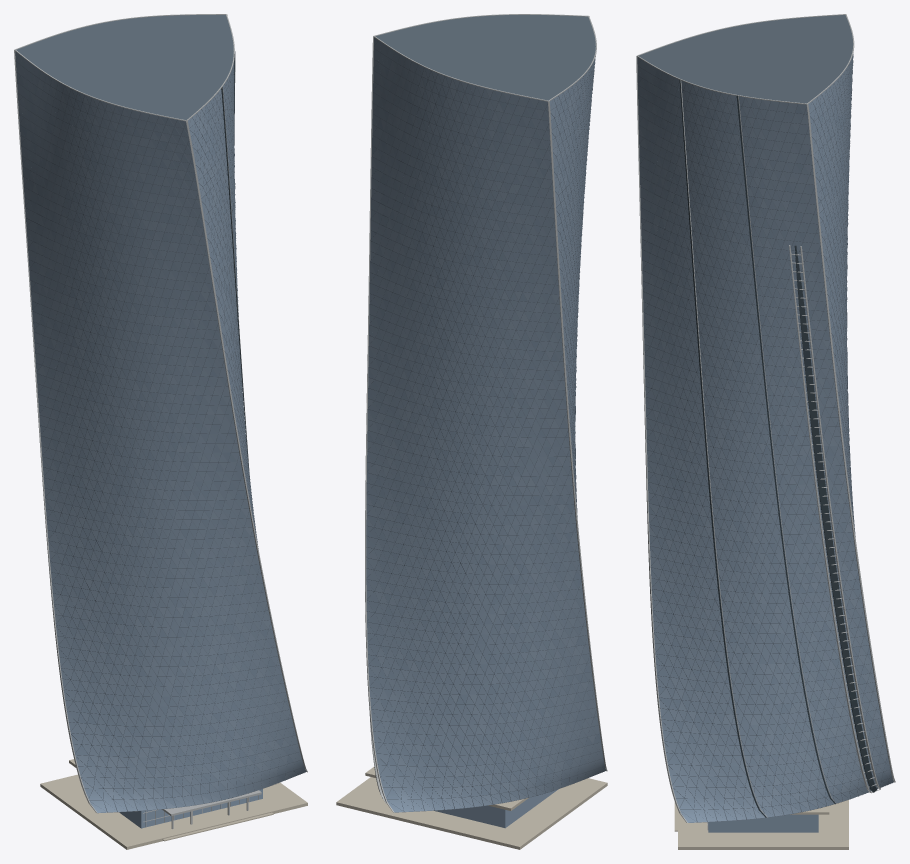
Rendered from Al-Bidda-Tower.glb.
3 views of the same model, side by side, from view 1: azimuth 30°, elevation 25°; view 2: azimuth 150°, elevation 25°; view 3: azimuth 270°, elevation 25° (orthographic). The views are drawn at different scales.
Visible parts, largest first — view 1: Tower | triangular silver-blue curtain wall, Facade | fine triangular aluminium lattice, Crown | closed sloping roof, Podium | foundation plinth, Corner 1 | continuous swept silver spine, Corner 3 | continuous swept silver spine, Podium | recessed glazed lobby, Crown | thin silver perimeter coping, Facade | vertical reveal 0; view 2: Tower | triangular silver-blue curtain wall, Facade | fine triangular aluminium lattice, Crown | closed sloping roof, Podium | foundation plinth, Corner 3 | continuous swept silver spine, Corner 2 | continuous swept silver spine, Podium | recessed glazed lobby, Crown | thin silver perimeter coping; view 3: Tower | triangular silver-blue curtain wall, Facade | fine triangular aluminium lattice, Crown | closed sloping roof, Podium | foundation plinth, Service spine | tapered dark recess, Corner 2 | continuous swept silver spine, Podium | recessed glazed lobby, Corner 1 | continuous swept silver spine, Service spine | silver blade.001, Facade | vertical reveal 1, Service spine | silver blade, Facade | vertical reveal 0 (+4 smaller).
Part boxes in pixels (box(x1,y1,x2,y2)): Tower | triangular silver-blue curtain wall: box(15, 51, 306, 812); Facade | fine triangular aluminium lattice: box(16, 59, 301, 813); Crown | closed sloping roof: box(16, 15, 233, 120); Podium | foundation plinth: box(40, 774, 307, 849); Corner 1 | continuous swept silver spine: box(186, 121, 307, 772); Corner 3 | continuous swept silver spine: box(14, 50, 97, 812); Podium | recessed glazed lobby: box(119, 789, 262, 828); Crown | thin silver perimeter coping: box(14, 14, 234, 121); Facade | vertical reveal 0: box(221, 87, 249, 470); Tower | triangular silver-blue curtain wall: box(366, 37, 606, 812); Facade | fine triangular aluminium lattice: box(366, 49, 603, 812); Crown | closed sloping roof: box(375, 15, 595, 100); Podium | foundation plinth: box(336, 777, 607, 849); Corner 3 | continuous swept silver spine: box(547, 101, 607, 771); Corner 2 | continuous swept silver spine: box(365, 36, 394, 812); Podium | recessed glazed lobby: box(382, 789, 558, 828); Crown | thin silver perimeter coping: box(373, 14, 596, 101); Tower | triangular silver-blue curtain wall: box(637, 54, 893, 822); Facade | fine triangular aluminium lattice: box(638, 56, 889, 822); Crown | closed sloping roof: box(639, 15, 853, 103); Podium | foundation plinth: box(678, 800, 848, 849); Service spine | tapered dark recess: box(794, 245, 877, 792); Corner 2 | continuous swept silver spine: box(806, 104, 895, 782); Podium | recessed glazed lobby: box(708, 814, 818, 832); Corner 1 | continuous swept silver spine: box(636, 56, 687, 822); Service spine | silver blade.001: box(800, 246, 880, 789); Facade | vertical reveal 1: box(736, 95, 835, 804); Service spine | silver blade: box(789, 245, 871, 793); Facade | vertical reveal 0: box(679, 79, 766, 817).
Size of the model in its own units: 68.4 by 229 by 72.87.
